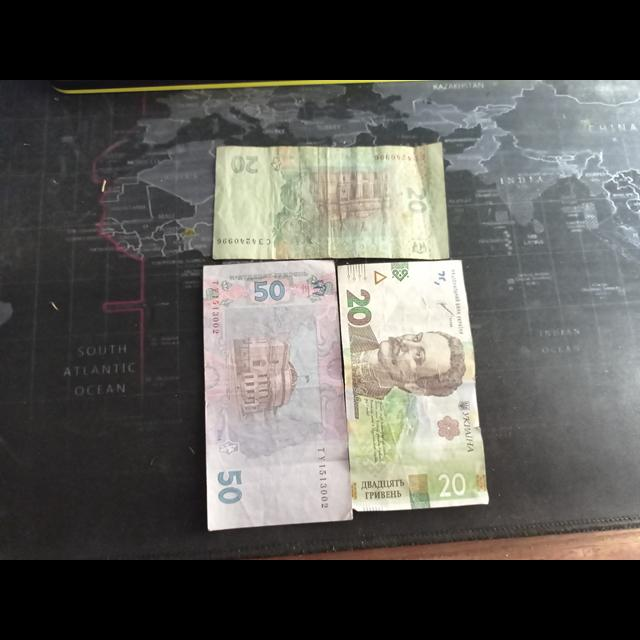20uah: (339, 261, 491, 513), (216, 143, 452, 258)
50uah: (202, 262, 351, 531)
